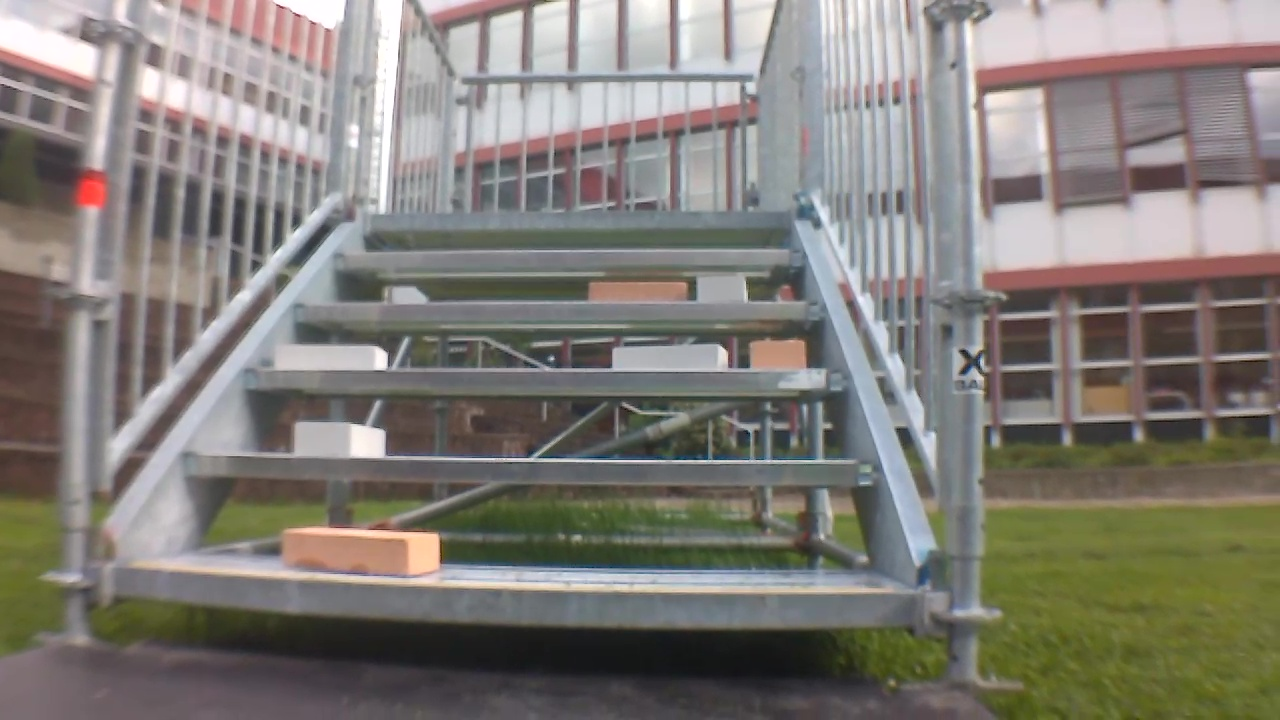brick: (284, 527, 437, 576), (296, 421, 383, 456), (612, 345, 727, 371), (275, 344, 385, 369), (591, 282, 686, 302), (750, 341, 804, 371), (698, 276, 745, 302)
edge: (113, 567, 917, 629), (183, 455, 880, 485), (244, 370, 850, 391), (292, 302, 825, 321), (363, 210, 791, 229), (338, 249, 806, 266)
stairs: (51, 3, 1002, 687)
steps: (106, 201, 929, 645)
